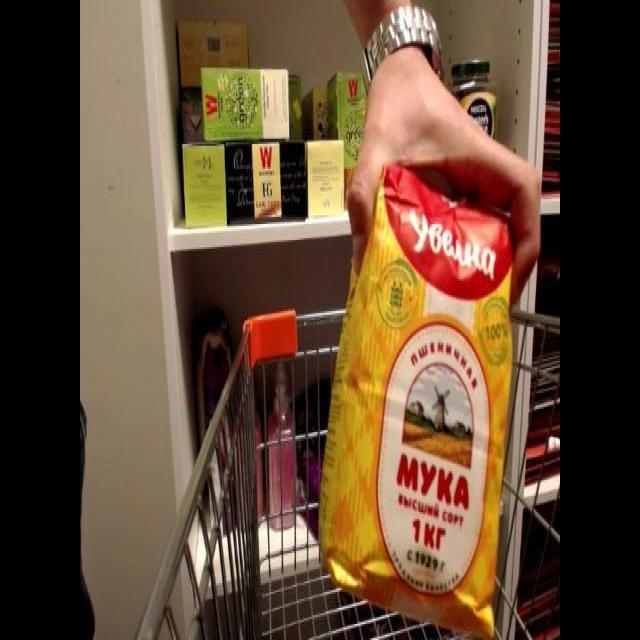Flour: (310, 163, 529, 634)
